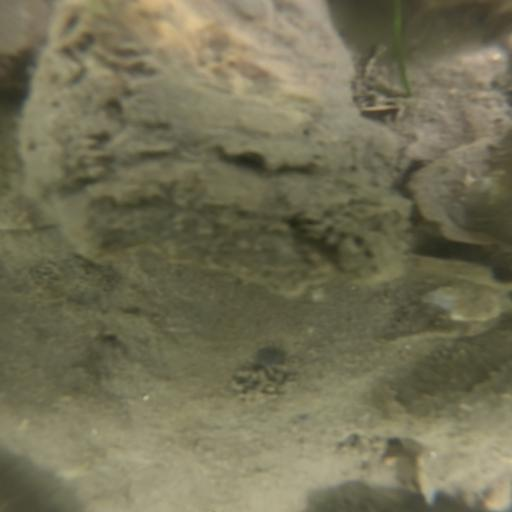Oyster-Closed: (18, 1, 425, 294), (407, 123, 512, 249)
